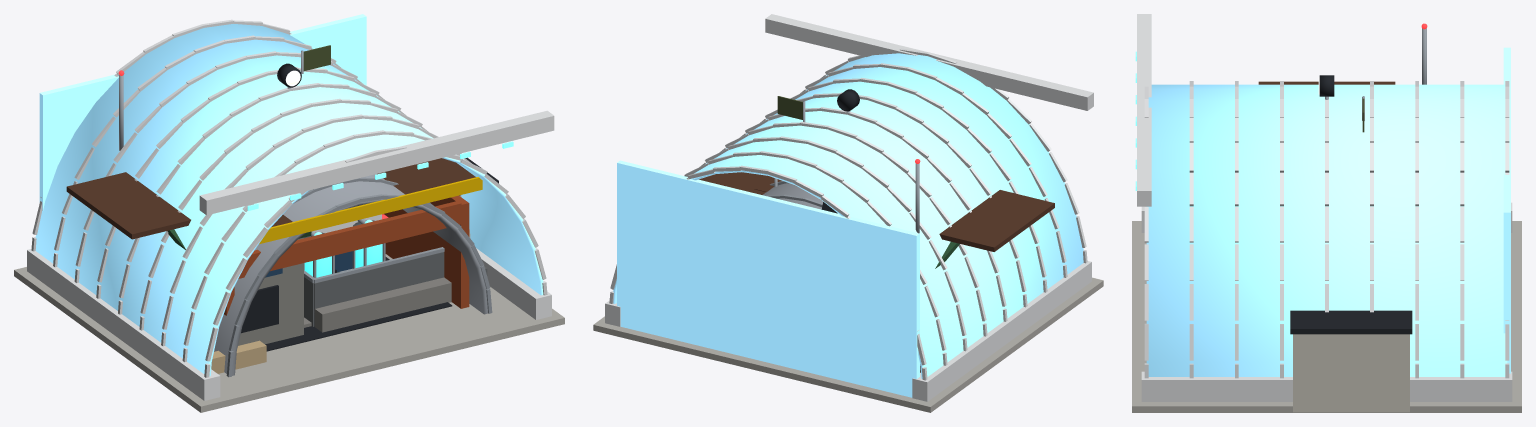
File: buildings2.glb
The picture shows the model from 3 angles, left to right: view 1: azimuth 30°, elevation 25°; view 2: azimuth 150°, elevation 25°; view 3: azimuth 270°, elevation 25°; orthographic projection. The views are drawn at different scales.
Visible parts, largest first — view 1: hangar3, hangar2, hangar1, barracks1, barracks3, lab, tower1; view 2: hangar3, hangar1, hangar2, tower1; view 3: hangar3, hangar2, hangar1, tower3.
Boxes of the visible parts, bbox=[...] form: hangar3: bbox=[14, 14, 564, 412]; hangar2: bbox=[214, 157, 505, 382]; hangar1: bbox=[66, 158, 475, 356]; barracks1: bbox=[167, 229, 444, 373]; barracks3: bbox=[314, 214, 451, 332]; lab: bbox=[304, 214, 385, 327]; tower1: bbox=[301, 45, 330, 73]; hangar3: bbox=[593, 14, 1103, 412]; hangar1: bbox=[699, 172, 1054, 251]; hangar2: bbox=[684, 175, 823, 209]; tower1: bbox=[777, 96, 805, 122]; hangar3: bbox=[1132, 14, 1521, 412]; hangar2: bbox=[1290, 310, 1412, 412]; hangar1: bbox=[1258, 81, 1395, 84]; tower3: bbox=[1318, 75, 1334, 99].
Size of the model in its own units: 9.45 by 5.52 by 8.
